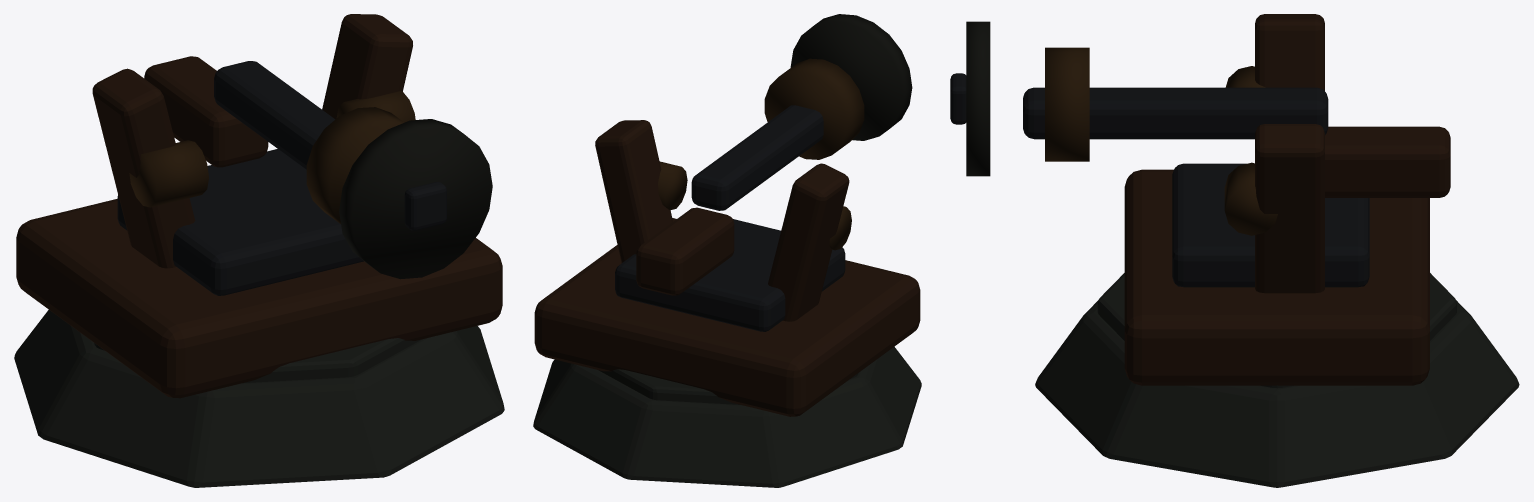
The model's file is TowerBounce0.obj.
3 views of the same model, side by side, from view 1: azimuth 30°, elevation 25°; view 2: azimuth 150°, elevation 25°; view 3: azimuth 270°, elevation 25° (orthographic). The views are drawn at different scales.
Parts seen in each view (by area): view 1: cut_stone_socket_lower_course, heavy_oak_table, iron_swivel, throwing_disc, oak_throwing_cheek, counterweight_beam, iron_throw_arm, oak_throwing_cheek.001, bronze_sling_drum, bronze_pivot_pin, cut_stone_socket_upper_course, dark_disc_hub (+1 smaller); view 2: heavy_oak_table, cut_stone_socket_lower_course, iron_swivel, throwing_disc, oak_throwing_cheek, oak_throwing_cheek.001, iron_throw_arm, counterweight_beam, bronze_sling_drum, cut_stone_socket_upper_course, bronze_pivot_pin.001, bronze_pivot_pin; view 3: cut_stone_socket_lower_course, heavy_oak_table, iron_throw_arm, iron_swivel, oak_throwing_cheek.001, counterweight_beam, bronze_sling_drum, oak_throwing_cheek, throwing_disc, bronze_pivot_pin.001, cut_stone_socket_upper_course, dark_disc_hub.
Part boxes in pixels (left/top/right/bottom): cut_stone_socket_lower_course: left=14, top=310, right=504, bottom=487; heavy_oak_table: left=16, top=198, right=502, bottom=398; iron_swivel: left=117, top=149, right=363, bottom=295; throwing_disc: left=339, top=119, right=492, bottom=279; oak_throwing_cheek: left=92, top=68, right=195, bottom=268; counterweight_beam: left=144, top=56, right=268, bottom=167; iron_throw_arm: left=214, top=61, right=335, bottom=169; oak_throwing_cheek.001: left=322, top=14, right=412, bottom=119; bronze_sling_drum: left=306, top=107, right=403, bottom=223; bronze_pivot_pin: left=129, top=140, right=208, bottom=207; cut_stone_socket_upper_course: left=94, top=338, right=421, bottom=383; dark_disc_hub: left=404, top=182, right=446, bottom=230; heavy_oak_table: left=534, top=218, right=920, bottom=416; cut_stone_socket_lower_course: left=533, top=346, right=921, bottom=487; iron_swivel: left=615, top=219, right=845, bottom=331; throwing_disc: left=790, top=14, right=912, bottom=140; oak_throwing_cheek: left=768, top=163, right=849, bottom=321; oak_throwing_cheek.001: left=595, top=120, right=672, bottom=262; iron_throw_arm: left=691, top=105, right=823, bottom=210; counterweight_beam: left=636, top=207, right=734, bottom=295; bronze_sling_drum: left=764, top=58, right=864, bottom=159; cut_stone_socket_upper_course: left=598, top=369, right=858, bottom=404; bronze_pivot_pin.001: left=658, top=161, right=687, bottom=209; bronze_pivot_pin: left=829, top=206, right=851, bottom=250; cut_stone_socket_lower_course: left=1035, top=300, right=1519, bottom=487; heavy_oak_table: left=1124, top=169, right=1429, bottom=385; iron_throw_arm: left=1023, top=87, right=1328, bottom=139; iron_swivel: left=1172, top=163, right=1369, bottom=287; oak_throwing_cheek.001: left=1255, top=124, right=1324, bottom=293; counterweight_beam: left=1325, top=126, right=1450, bottom=197; bronze_sling_drum: left=1045, top=47, right=1089, bottom=161; oak_throwing_cheek: left=1255, top=14, right=1324, bottom=90; throwing_disc: left=966, top=21, right=990, bottom=176; bronze_pivot_pin.001: left=1224, top=162, right=1277, bottom=235; cut_stone_socket_upper_course: left=1097, top=273, right=1456, bottom=388; dark_disc_hub: left=950, top=73, right=966, bottom=124.
Bounding box in the file's own units: 1.52 × 1.25 × 1.79.
